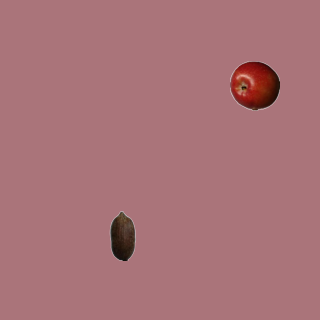Apple Braeburn: (229, 60, 279, 110)
Nut Pecan: (97, 210, 147, 260)
